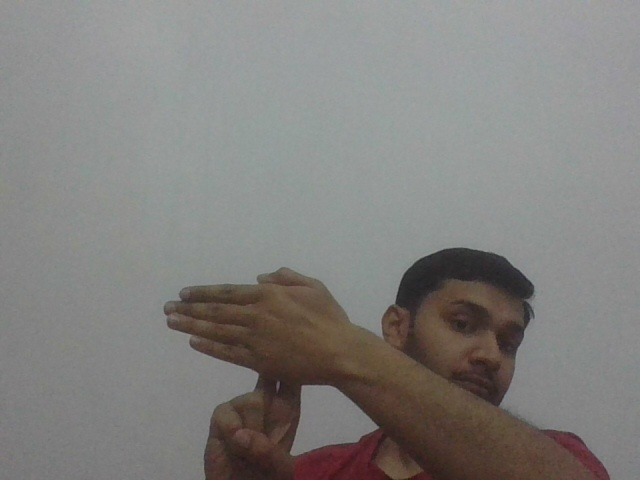N: (160, 266, 344, 403)
